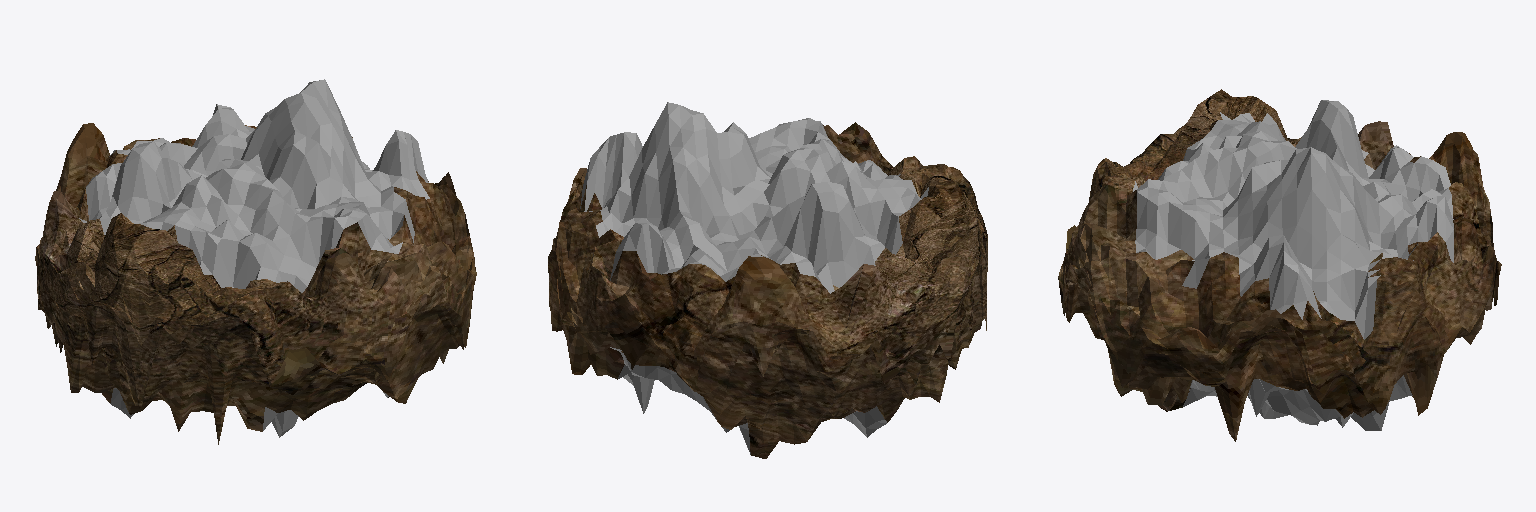
3 views of the same model, side by side, from view 1: azimuth 30°, elevation 25°; view 2: azimuth 150°, elevation 25°; view 3: azimuth 270°, elevation 25° (orthographic).
Size of the model in its own units: 24.99 by 18 by 24.99.
2 materials, 1 textured.